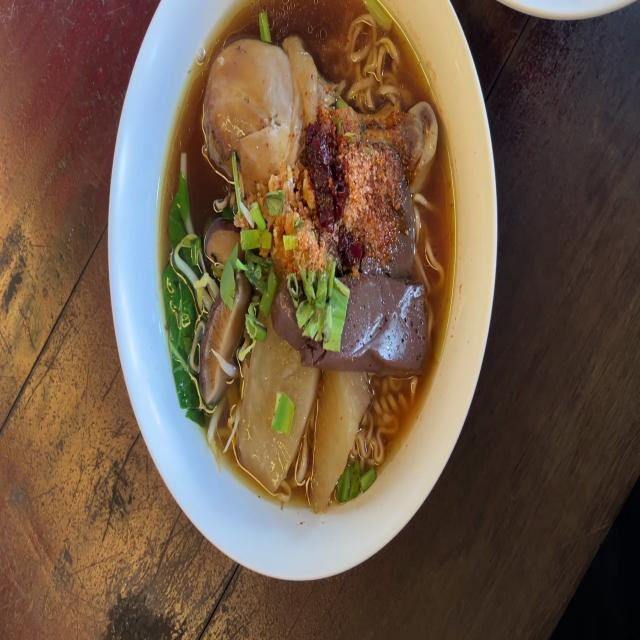noodle: (336, 279, 430, 376)
